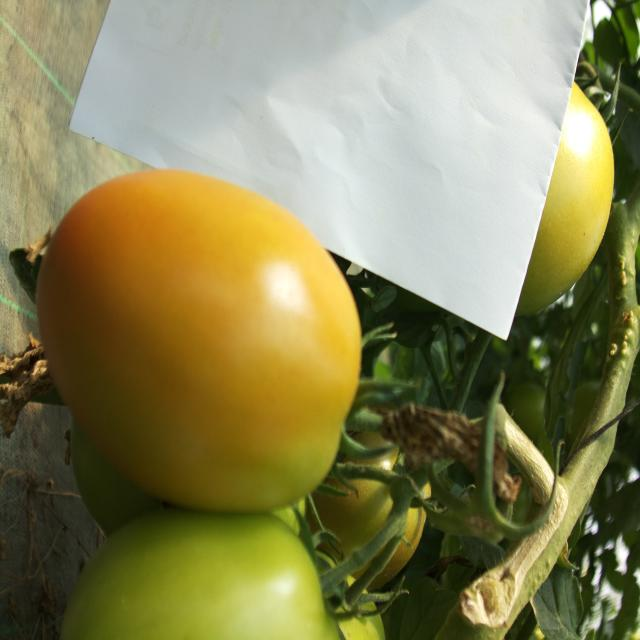sari: (36, 160, 392, 505)
